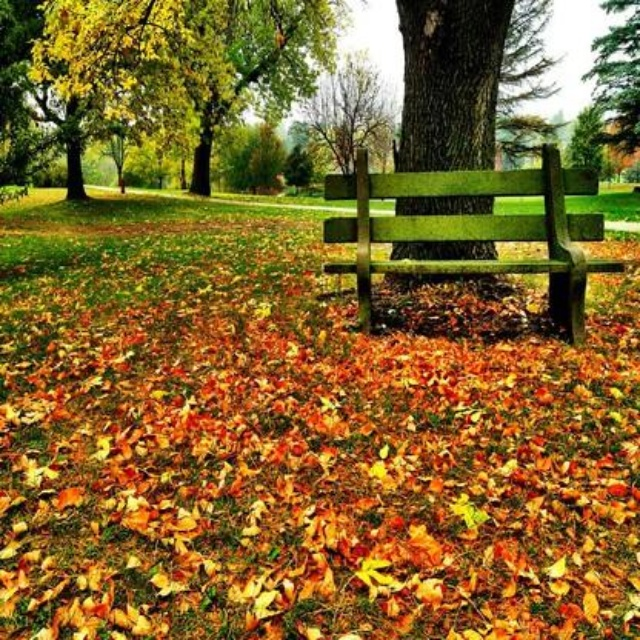obstacle: (303, 152, 629, 340)
